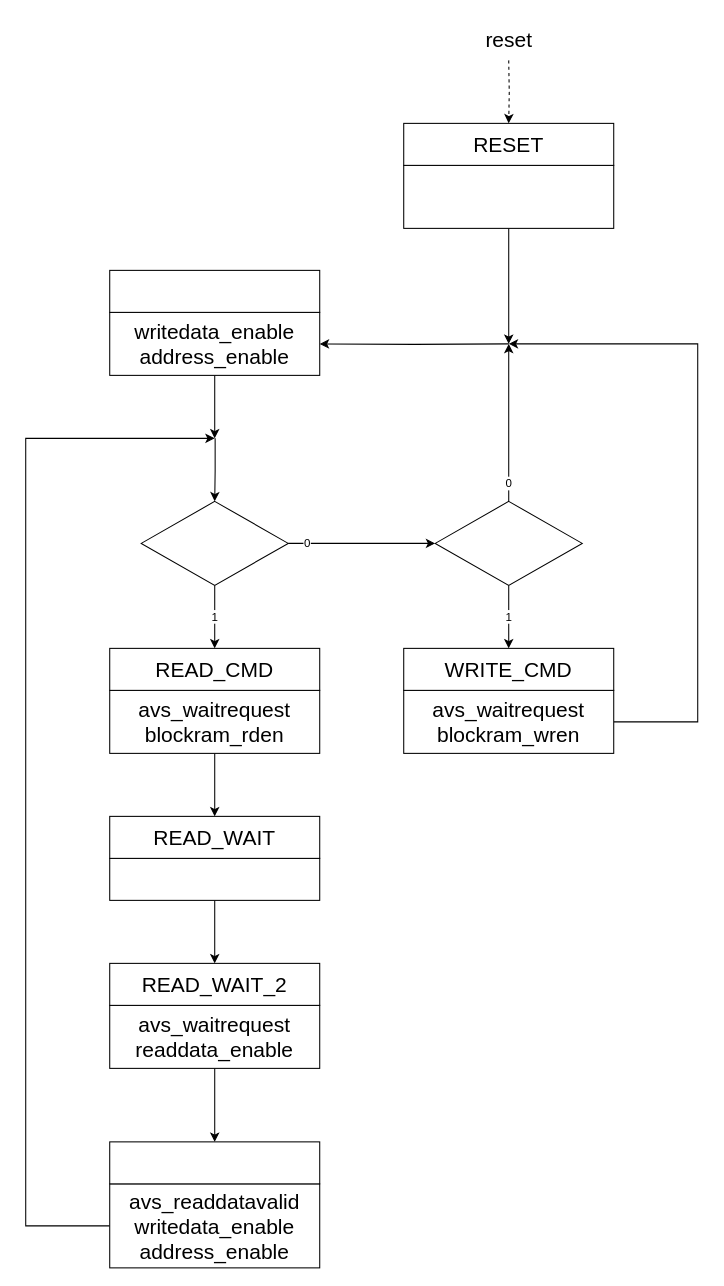
This 724x1286 diagram has some shape labels left out. Here are the shapes that lost their labels. From the top down, the centre of each, then its label:
At point (214, 290): "IDLE".
At point (214, 542): "avs_read".
At point (508, 542): "avs_write".
At point (214, 878): "avs_waitrequest".
At point (214, 1162): "READ_VALID".
